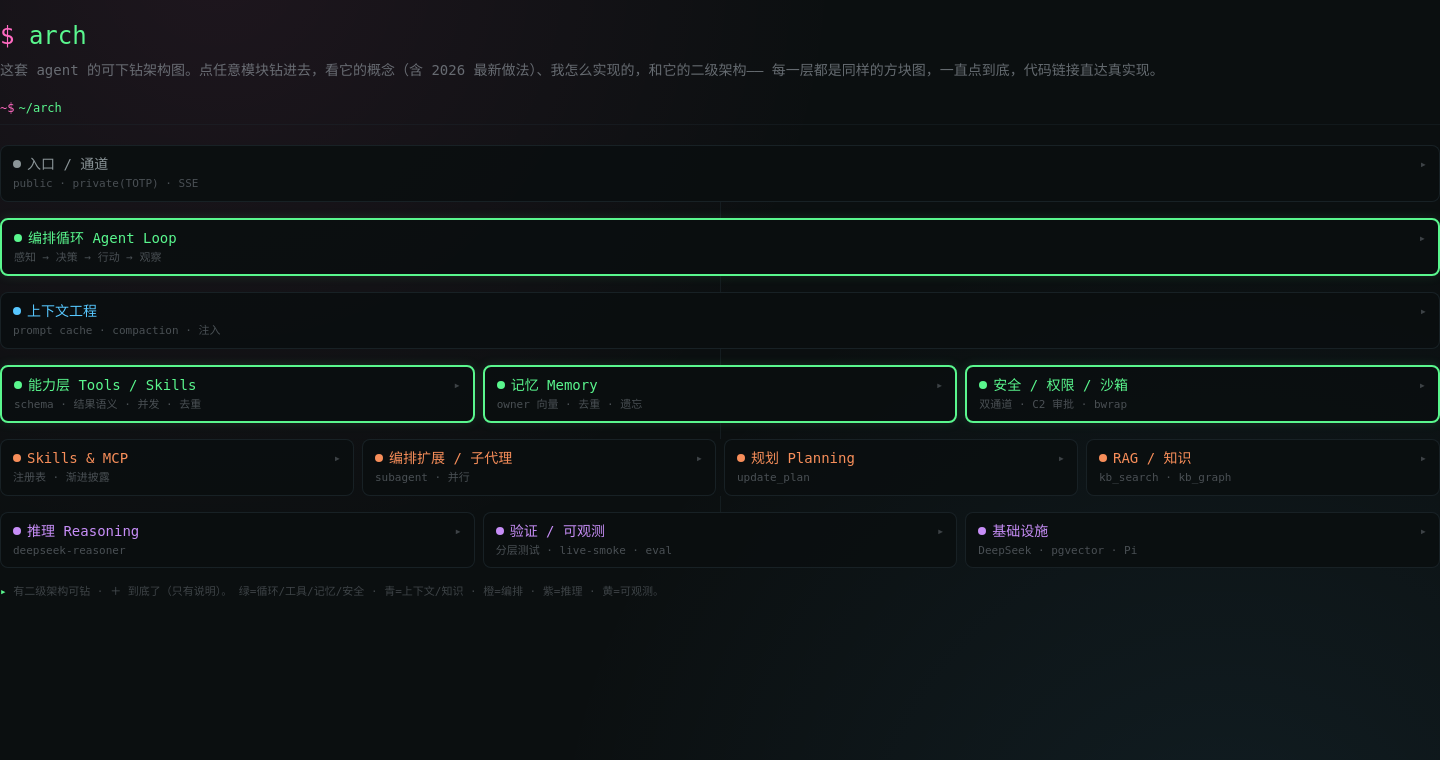
Scenario: Arch 架构解剖器（原地下钻） › 面包屑 ~/arch 回到根总图
The width and height of the screenshot is (1440, 760).
Click the text "安全 / 权限 / 沙箱".
click(1061, 384)  # box x1=993 y1=376 x2=1128 y2=392
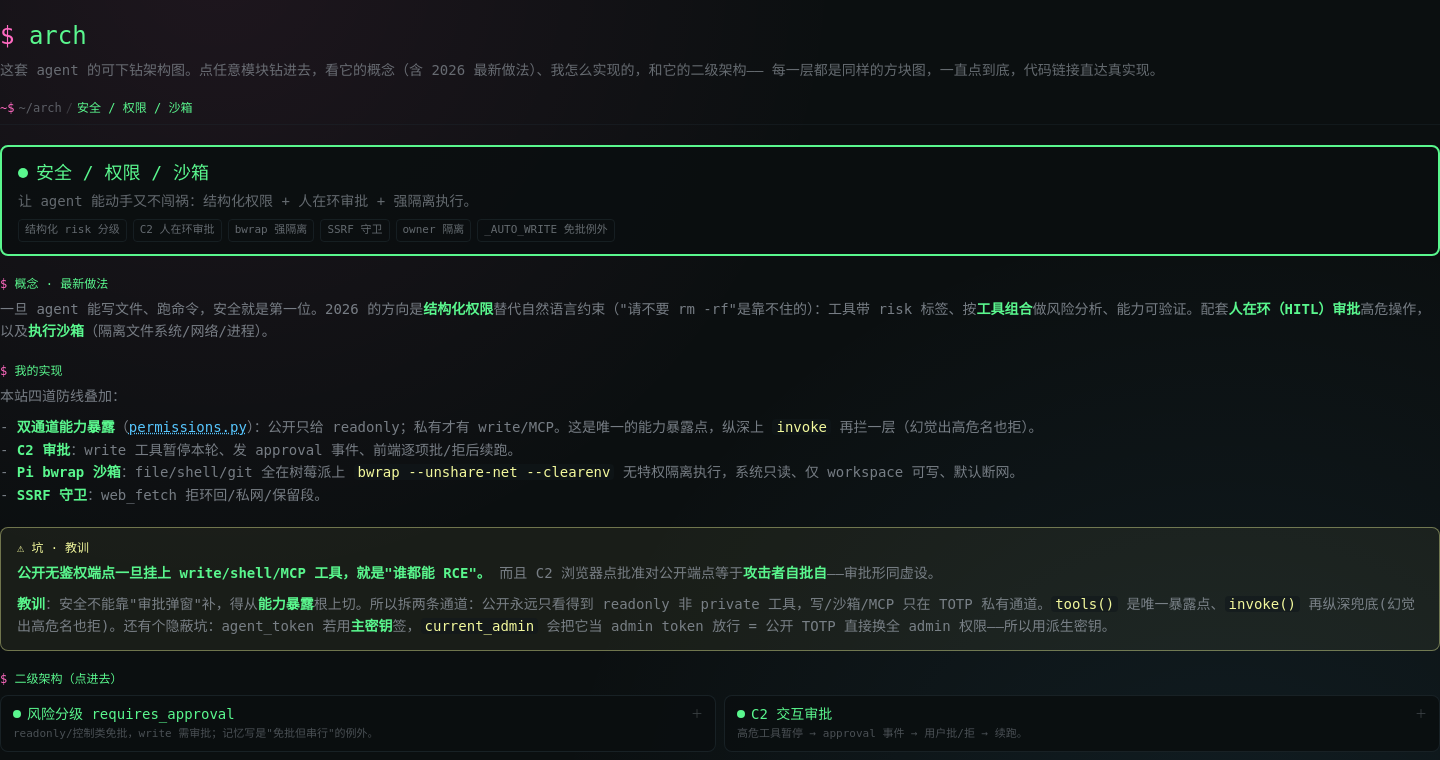
Check: the button "编排循环 Agent Loop" is gone
Click the button "~/arch".
click(40, 108)  # box x1=18 y1=100 x2=62 y2=116
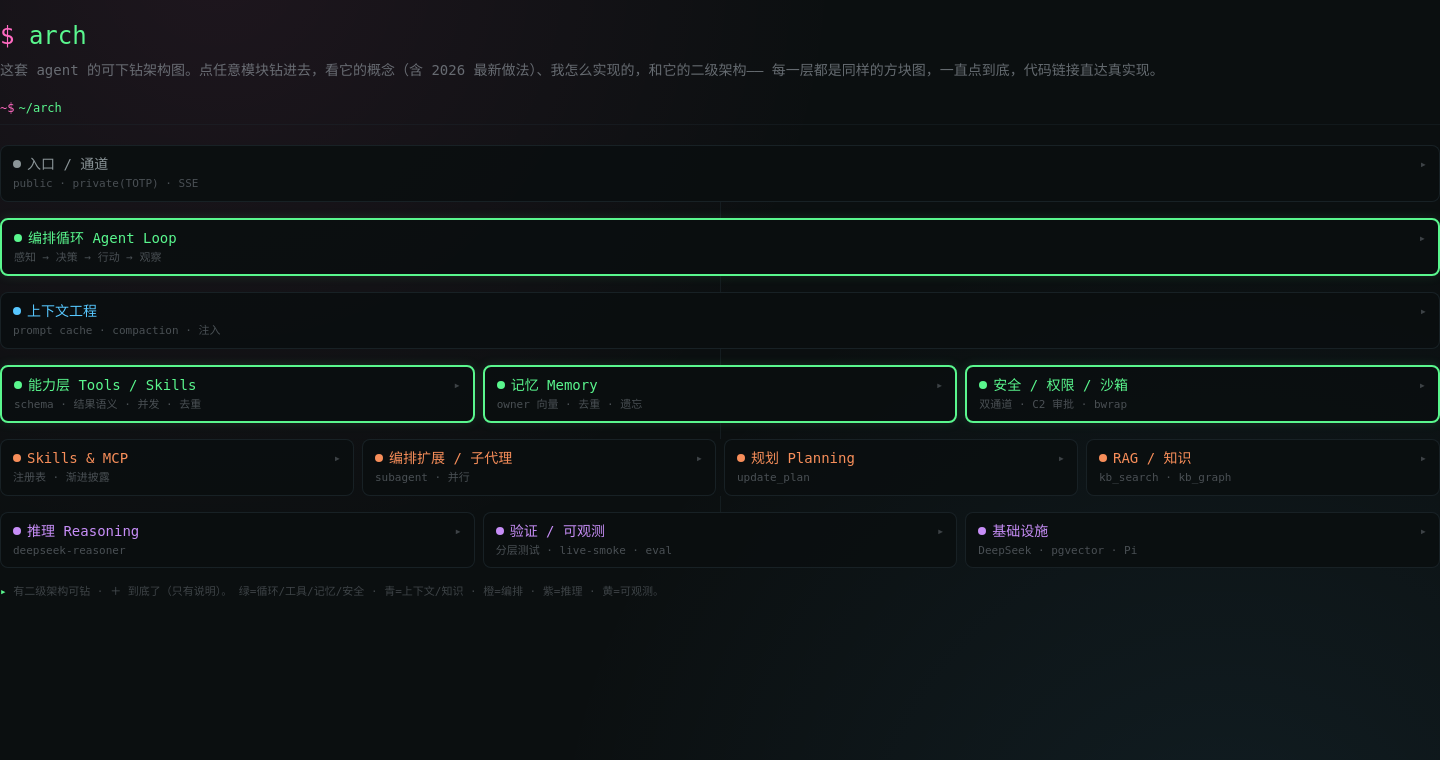
Check: the text "编排循环 Agent Loop" is shown, box x1=28 y1=230 x2=177 y2=246
